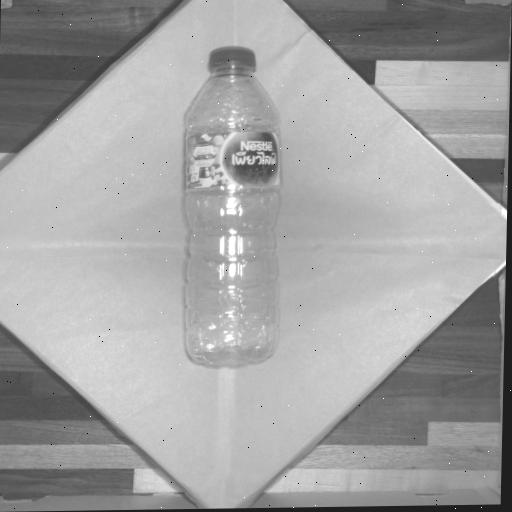bottle: (185, 49, 278, 364)
